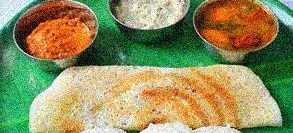dosa: (30, 64, 277, 133)
